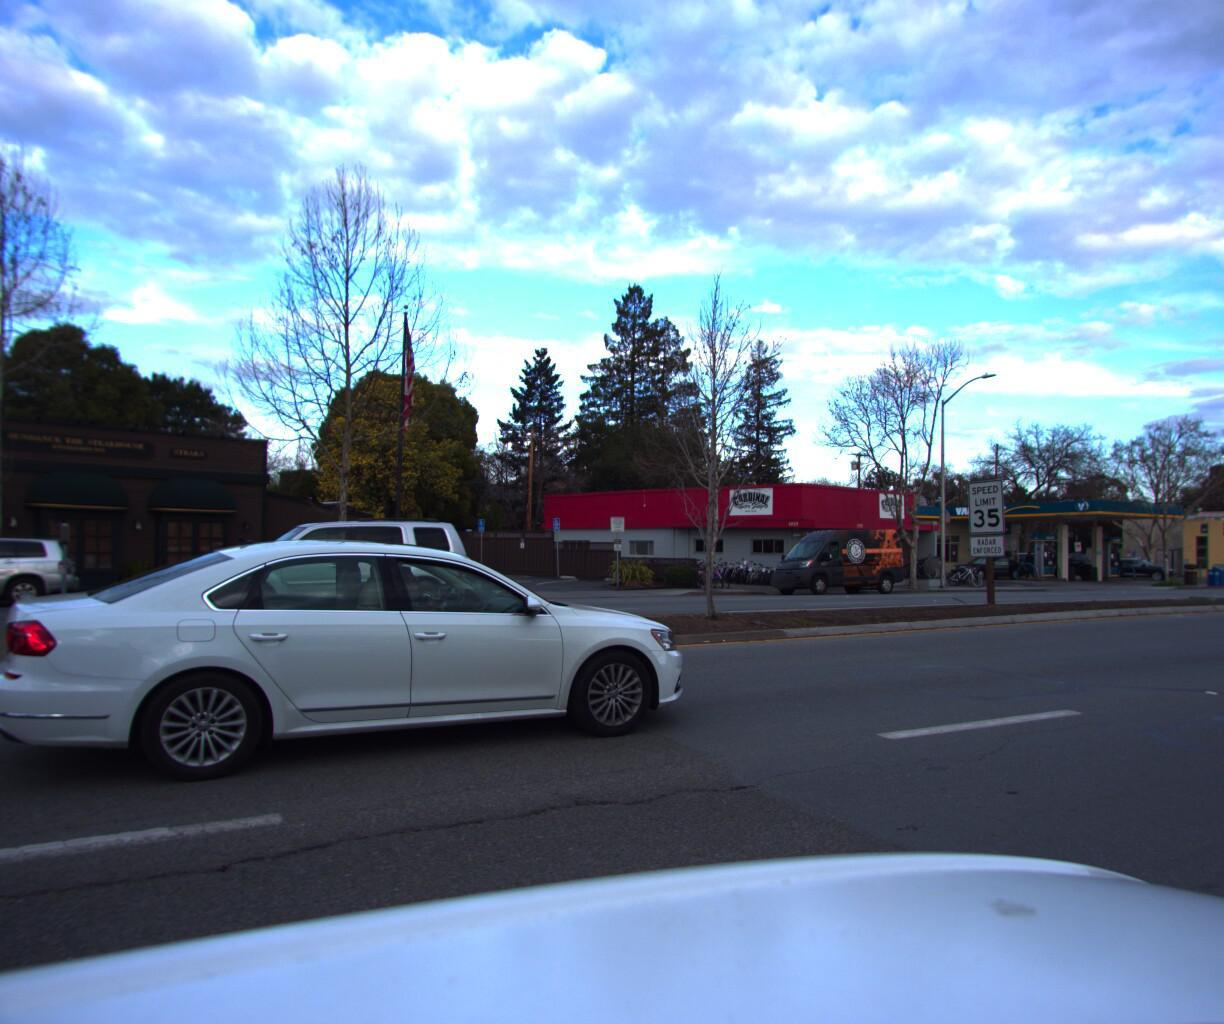bicycle: (675, 551, 712, 583), (940, 556, 980, 583), (944, 556, 985, 582), (898, 556, 936, 582), (735, 552, 768, 581), (729, 552, 761, 581), (749, 552, 781, 581), (743, 552, 775, 581), (710, 552, 742, 580), (723, 552, 755, 580), (716, 552, 748, 580), (703, 552, 735, 580)
car: (20, 537, 718, 809), (163, 509, 478, 633), (0, 533, 84, 617), (941, 548, 1023, 577), (1094, 550, 1173, 576)
truck: (758, 521, 906, 591)
